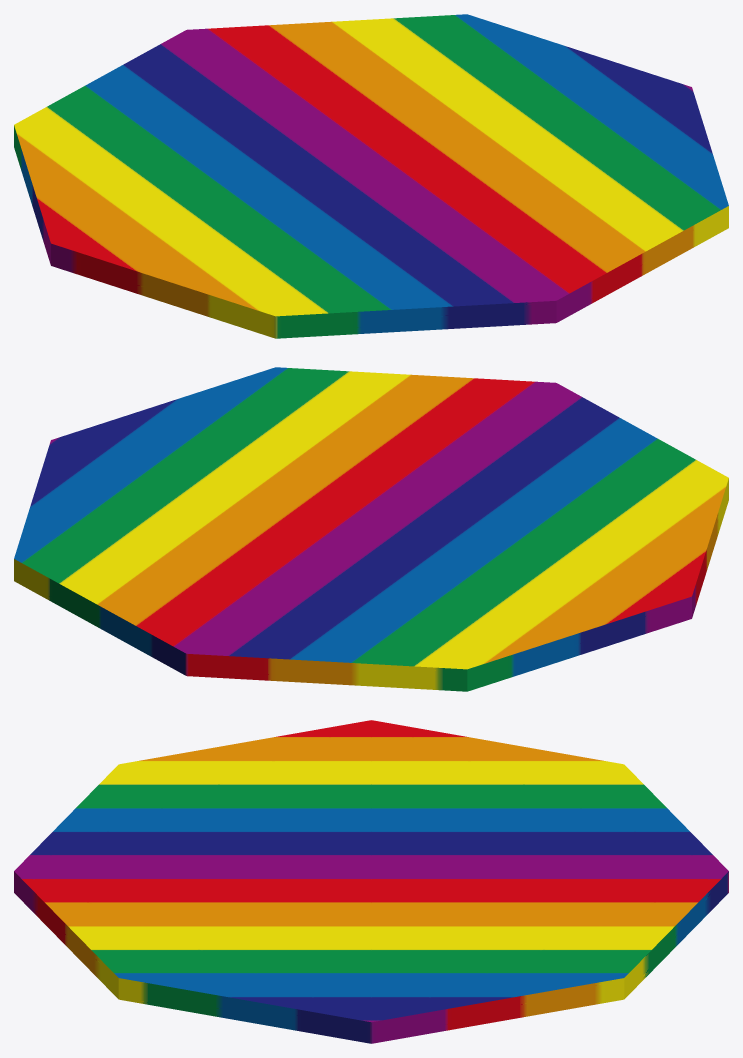
The model's file is Clearrainbow.obj.
3 views of the same model, one above another, from view 1: azimuth 30°, elevation 25°; view 2: azimuth 150°, elevation 25°; view 3: azimuth 270°, elevation 25° (orthographic). The views are drawn at different scales.
Parts seen in each view (by area): view 1: Cylinder; view 2: Cylinder; view 3: Cylinder.
Boxes of the visible parts, x1,y1,x2,y2 form: Cylinder: (14, 14, 728, 338); Cylinder: (14, 367, 728, 691); Cylinder: (14, 720, 728, 1043).
Size of the model in its own units: 60 by 2 by 60.
Materials: 1 (1 with a texture image).
